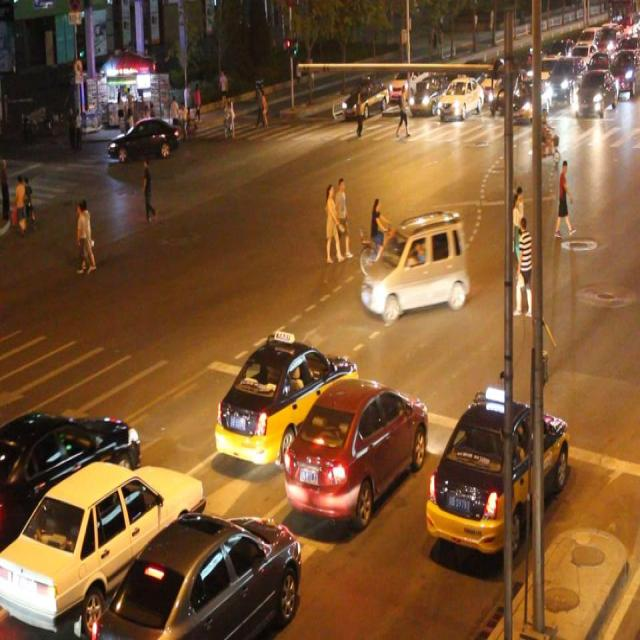car: (1, 458, 205, 625), (100, 506, 301, 640), (426, 392, 568, 555), (284, 373, 426, 521), (217, 330, 359, 466), (1, 409, 140, 546), (365, 212, 468, 314), (107, 118, 182, 158), (438, 76, 481, 120), (341, 78, 388, 114), (407, 70, 447, 110)
